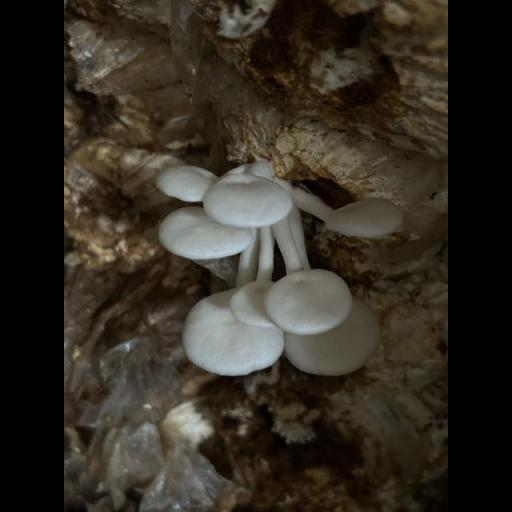White Oyster Mushroom: (155, 158, 399, 376)
